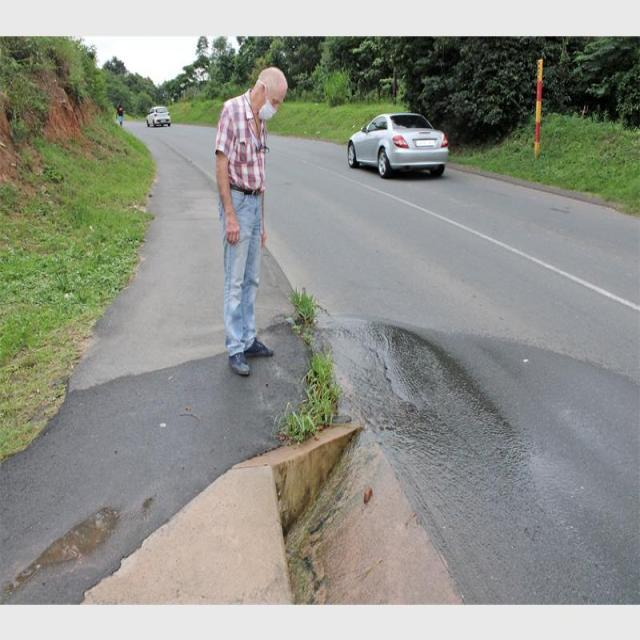water_leak: (260, 321, 478, 419)
